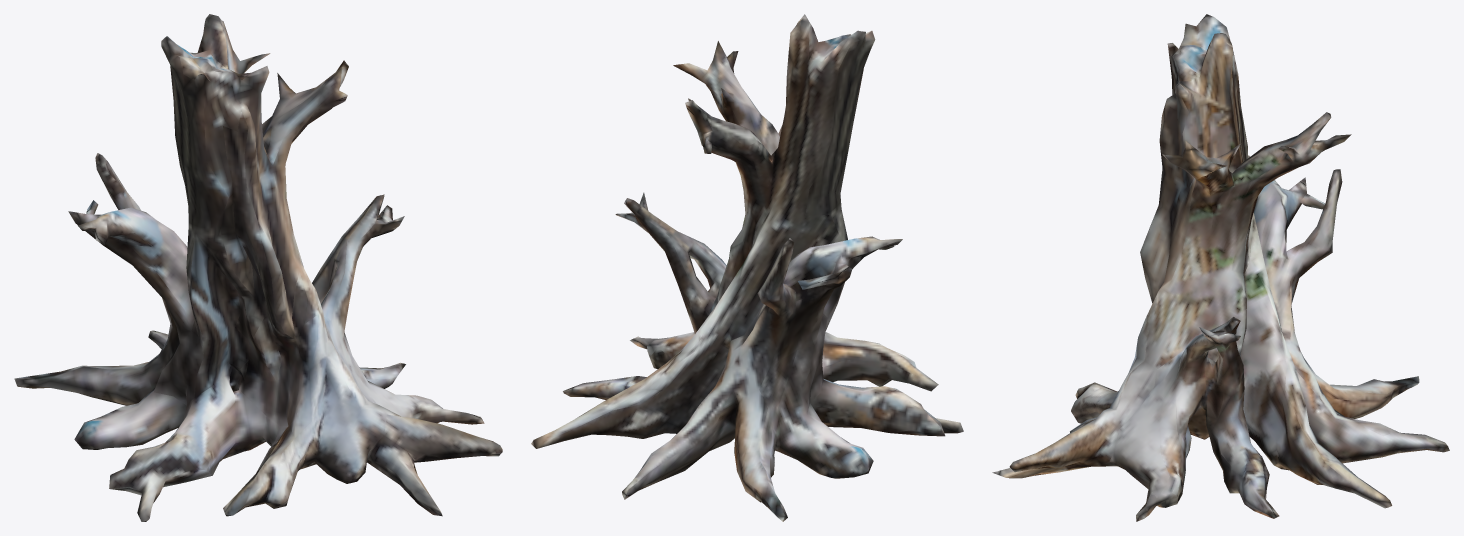
Rendered from ThirdRoom_CanyonDeadTree.fbx.
3 renders of one model, left to right at view 1: azimuth 30°, elevation 25°; view 2: azimuth 150°, elevation 25°; view 3: azimuth 270°, elevation 25°, orthographic. The views are drawn at different scales.
Visible parts, largest first — view 1: ThirdRoom_CanyonDeadTree_Mesh; view 2: ThirdRoom_CanyonDeadTree_Mesh; view 3: ThirdRoom_CanyonDeadTree_Mesh.
Part boxes in pixels (x1,y1,x2,y2): ThirdRoom_CanyonDeadTree_Mesh: (14,14,502,521); ThirdRoom_CanyonDeadTree_Mesh: (531,14,963,521); ThirdRoom_CanyonDeadTree_Mesh: (992,14,1449,521).
Bounding box in the file's own units: 4.83 × 5.83 × 6.
1 material, 1 textured.
